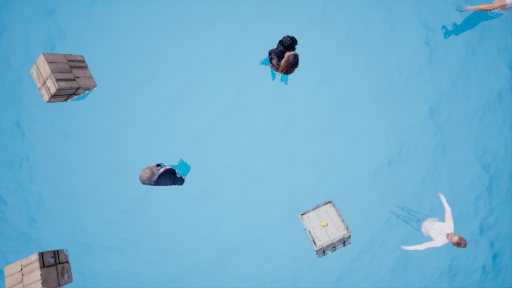person: (390, 192, 463, 256), (254, 42, 304, 88), (137, 164, 196, 194)
